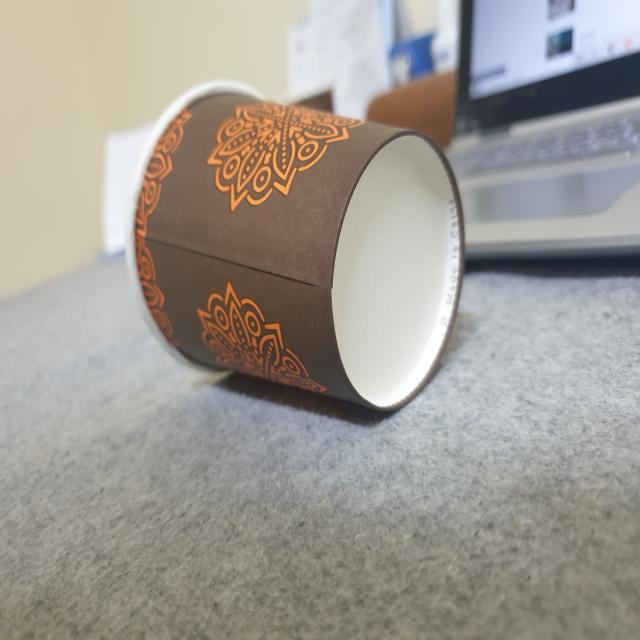cups: (121, 74, 483, 426)
